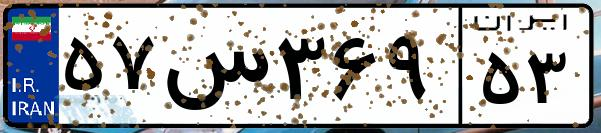3: (270, 28, 330, 110), (525, 38, 570, 115)
5: (57, 26, 110, 100), (475, 38, 525, 113)
6: (330, 28, 385, 110)
7: (110, 28, 158, 98)
9: (385, 28, 445, 110)
س: (158, 20, 270, 120)
